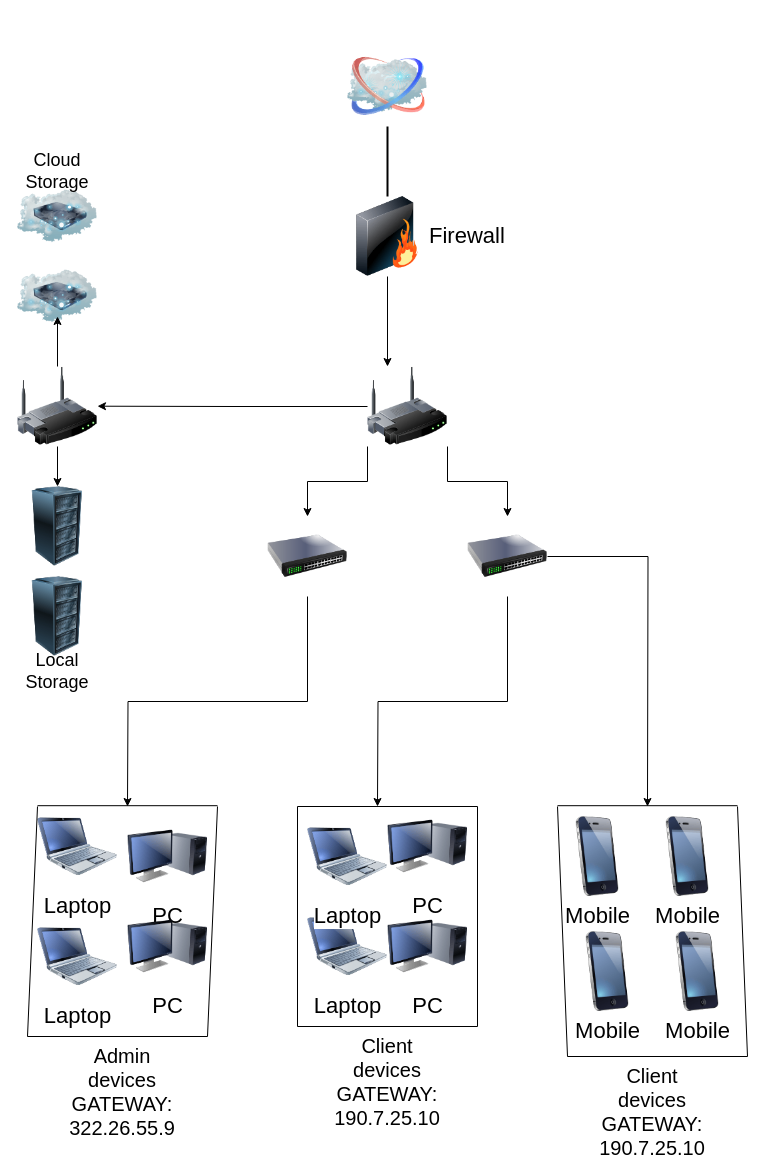
Image size: 766x1176. Some labels were removed from this diagram. The shapes that lost their labels are listed below. From the top down, each one's box as (x1, y1, x2, y2) in pixels, then its label:
(347, 46, 427, 126): Internet
(267, 516, 347, 596): Admin router IP: 322.26.55.9
(467, 516, 547, 596): client router: IP: 190.7.25.10
